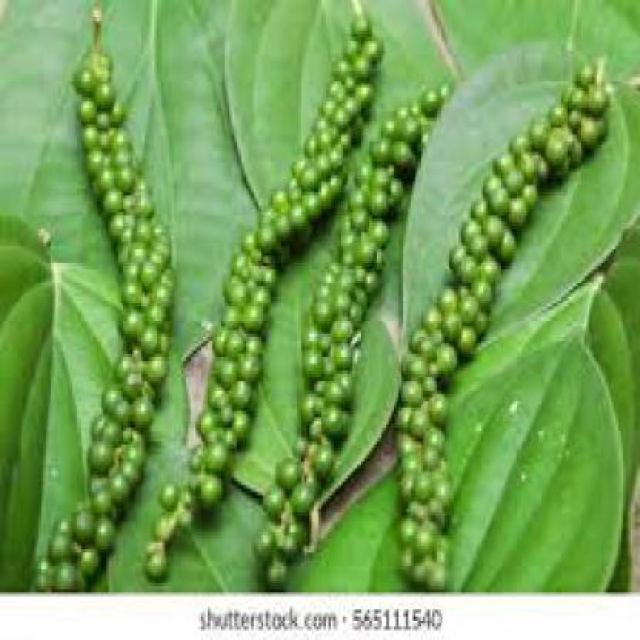UNRIPE: (54, 11, 140, 583), (278, 14, 431, 255), (266, 280, 360, 572), (397, 317, 452, 586), (208, 266, 254, 529)
